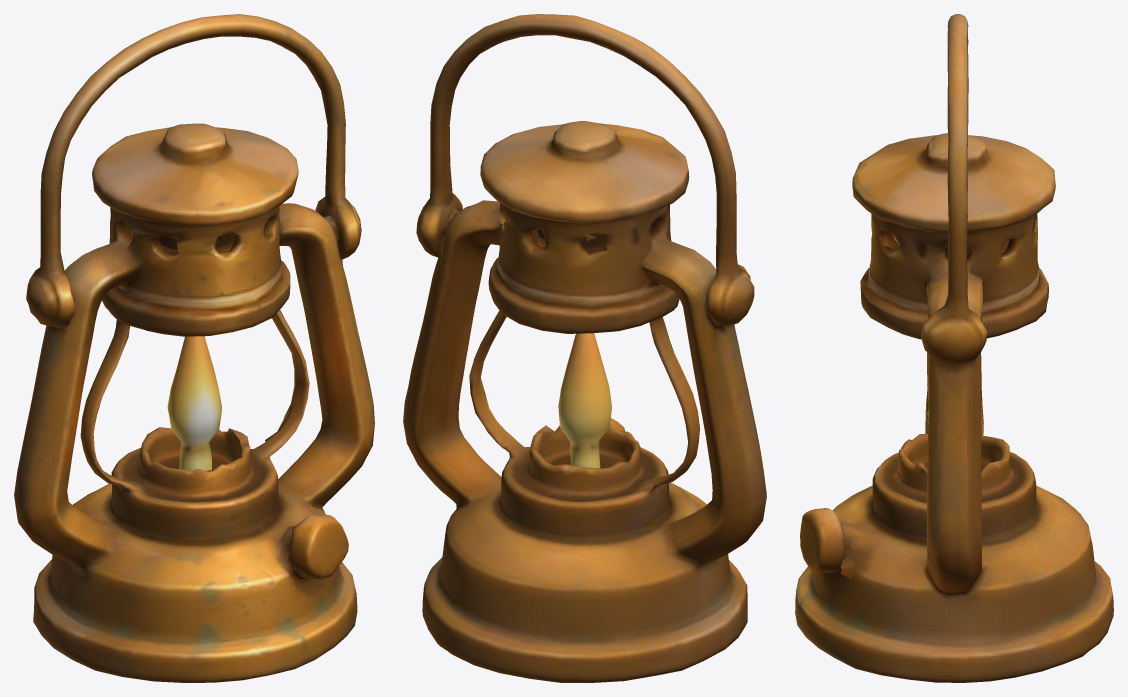
Rendered from mine-lantern.glb.
3 renders of one model, left to right at view 1: azimuth 30°, elevation 25°; view 2: azimuth 150°, elevation 25°; view 3: azimuth 270°, elevation 25°, orthographic. The views are drawn at different scales.
Parts seen in each view (by area): view 1: tripo_node_b2e3ba50-4362-4d2b-b943-1fd2af7fbbc7; view 2: tripo_node_b2e3ba50-4362-4d2b-b943-1fd2af7fbbc7; view 3: tripo_node_b2e3ba50-4362-4d2b-b943-1fd2af7fbbc7.
Boxes of the visible parts, left/top/right/bottom form: tripo_node_b2e3ba50-4362-4d2b-b943-1fd2af7fbbc7: left=14, top=14, right=374, bottom=682; tripo_node_b2e3ba50-4362-4d2b-b943-1fd2af7fbbc7: left=403, top=14, right=766, bottom=682; tripo_node_b2e3ba50-4362-4d2b-b943-1fd2af7fbbc7: left=795, top=14, right=1113, bottom=682.
Size of the model in its own units: 0.6143 by 0.9965 by 0.4905.
Materials: 1 (1 with a texture image).
